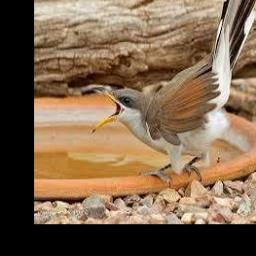Cuckoo: (91, 0, 256, 182)
